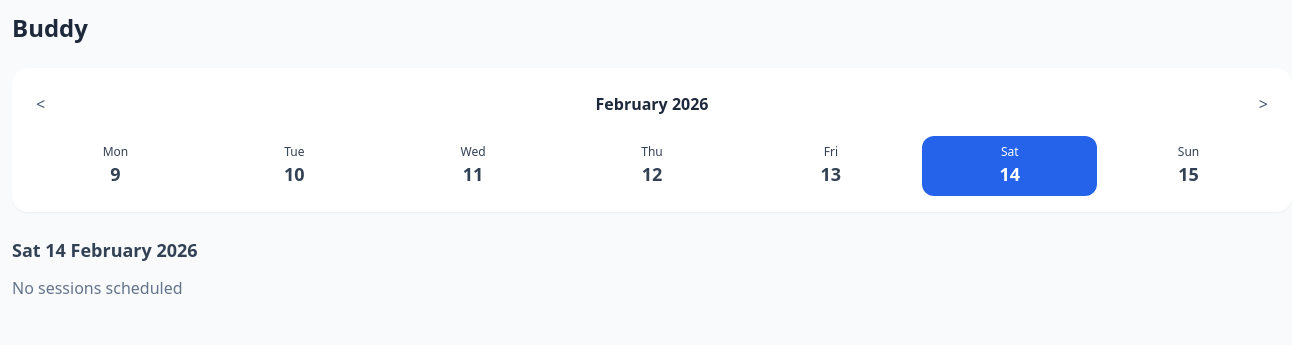
Test: Progress › navigating to another week shows planned sessions for the corresponding day
Expected: the text "February 2026" is shown, [596,92,708,116]
// Navigate to next week
Click the button named "next week": [1263, 104] box [1251,84,1276,124]
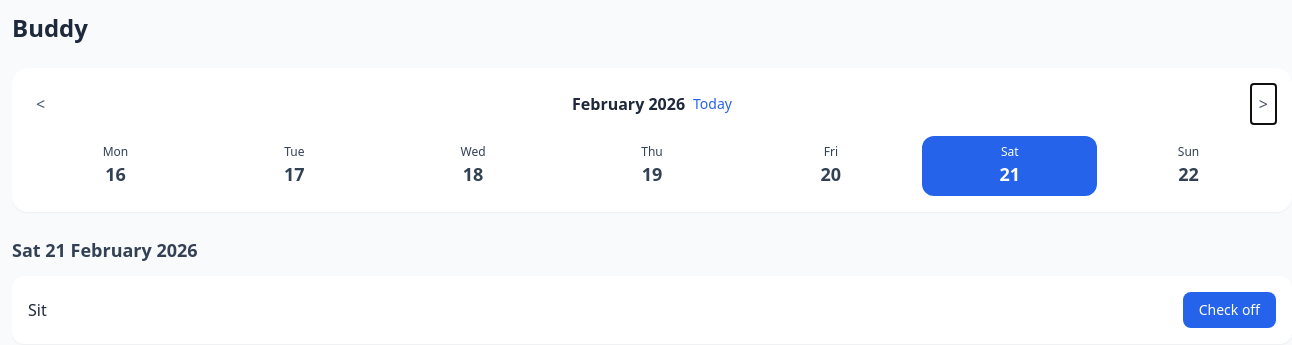
Expected: the text "Sit" is shown, [28,298,47,322]
Expected: the button "Check off" is shown, [1183,292,1276,328]
